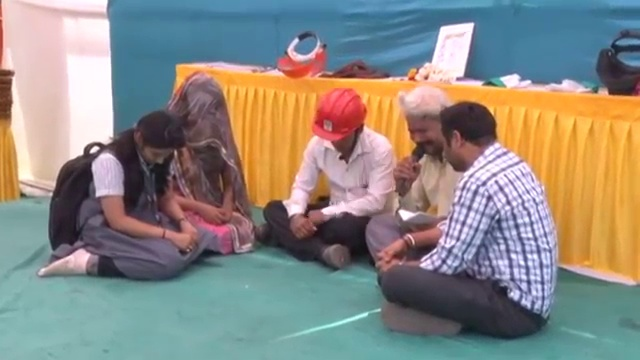helmet: (306, 85, 369, 143)
helmet_off: (443, 101, 501, 174), (171, 74, 230, 140), (128, 108, 184, 173), (401, 85, 450, 159)
helmet_on: (306, 86, 372, 162)
person: (378, 103, 565, 336), (43, 110, 203, 281), (254, 85, 404, 263), (152, 66, 255, 255), (366, 86, 468, 263)
